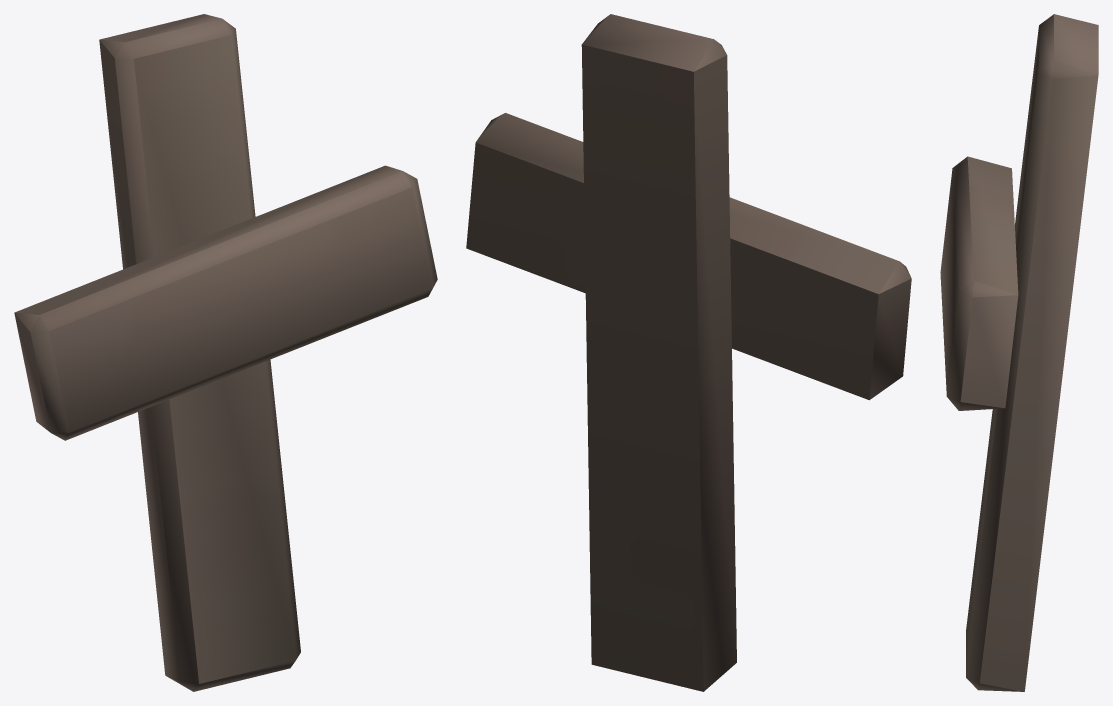
File: gravemarker_A.glb
3 views of the same model, side by side, from view 1: azimuth 30°, elevation 25°; view 2: azimuth 150°, elevation 25°; view 3: azimuth 270°, elevation 25° (orthographic). The views are drawn at different scales.
Visible parts, largest first — view 1: gravemarker_A; view 2: gravemarker_A; view 3: gravemarker_A.
Part boxes in pixels (x1=…): gravemarker_A: x1=14, y1=14, x2=437, y2=691; gravemarker_A: x1=466, y1=14, x2=911, y2=691; gravemarker_A: x1=940, y1=14, x2=1098, y2=691.
Bounding box in the file's own units: 0.8059 × 1.2 × 0.2782.
Materials: 1 (1 with a texture image).
